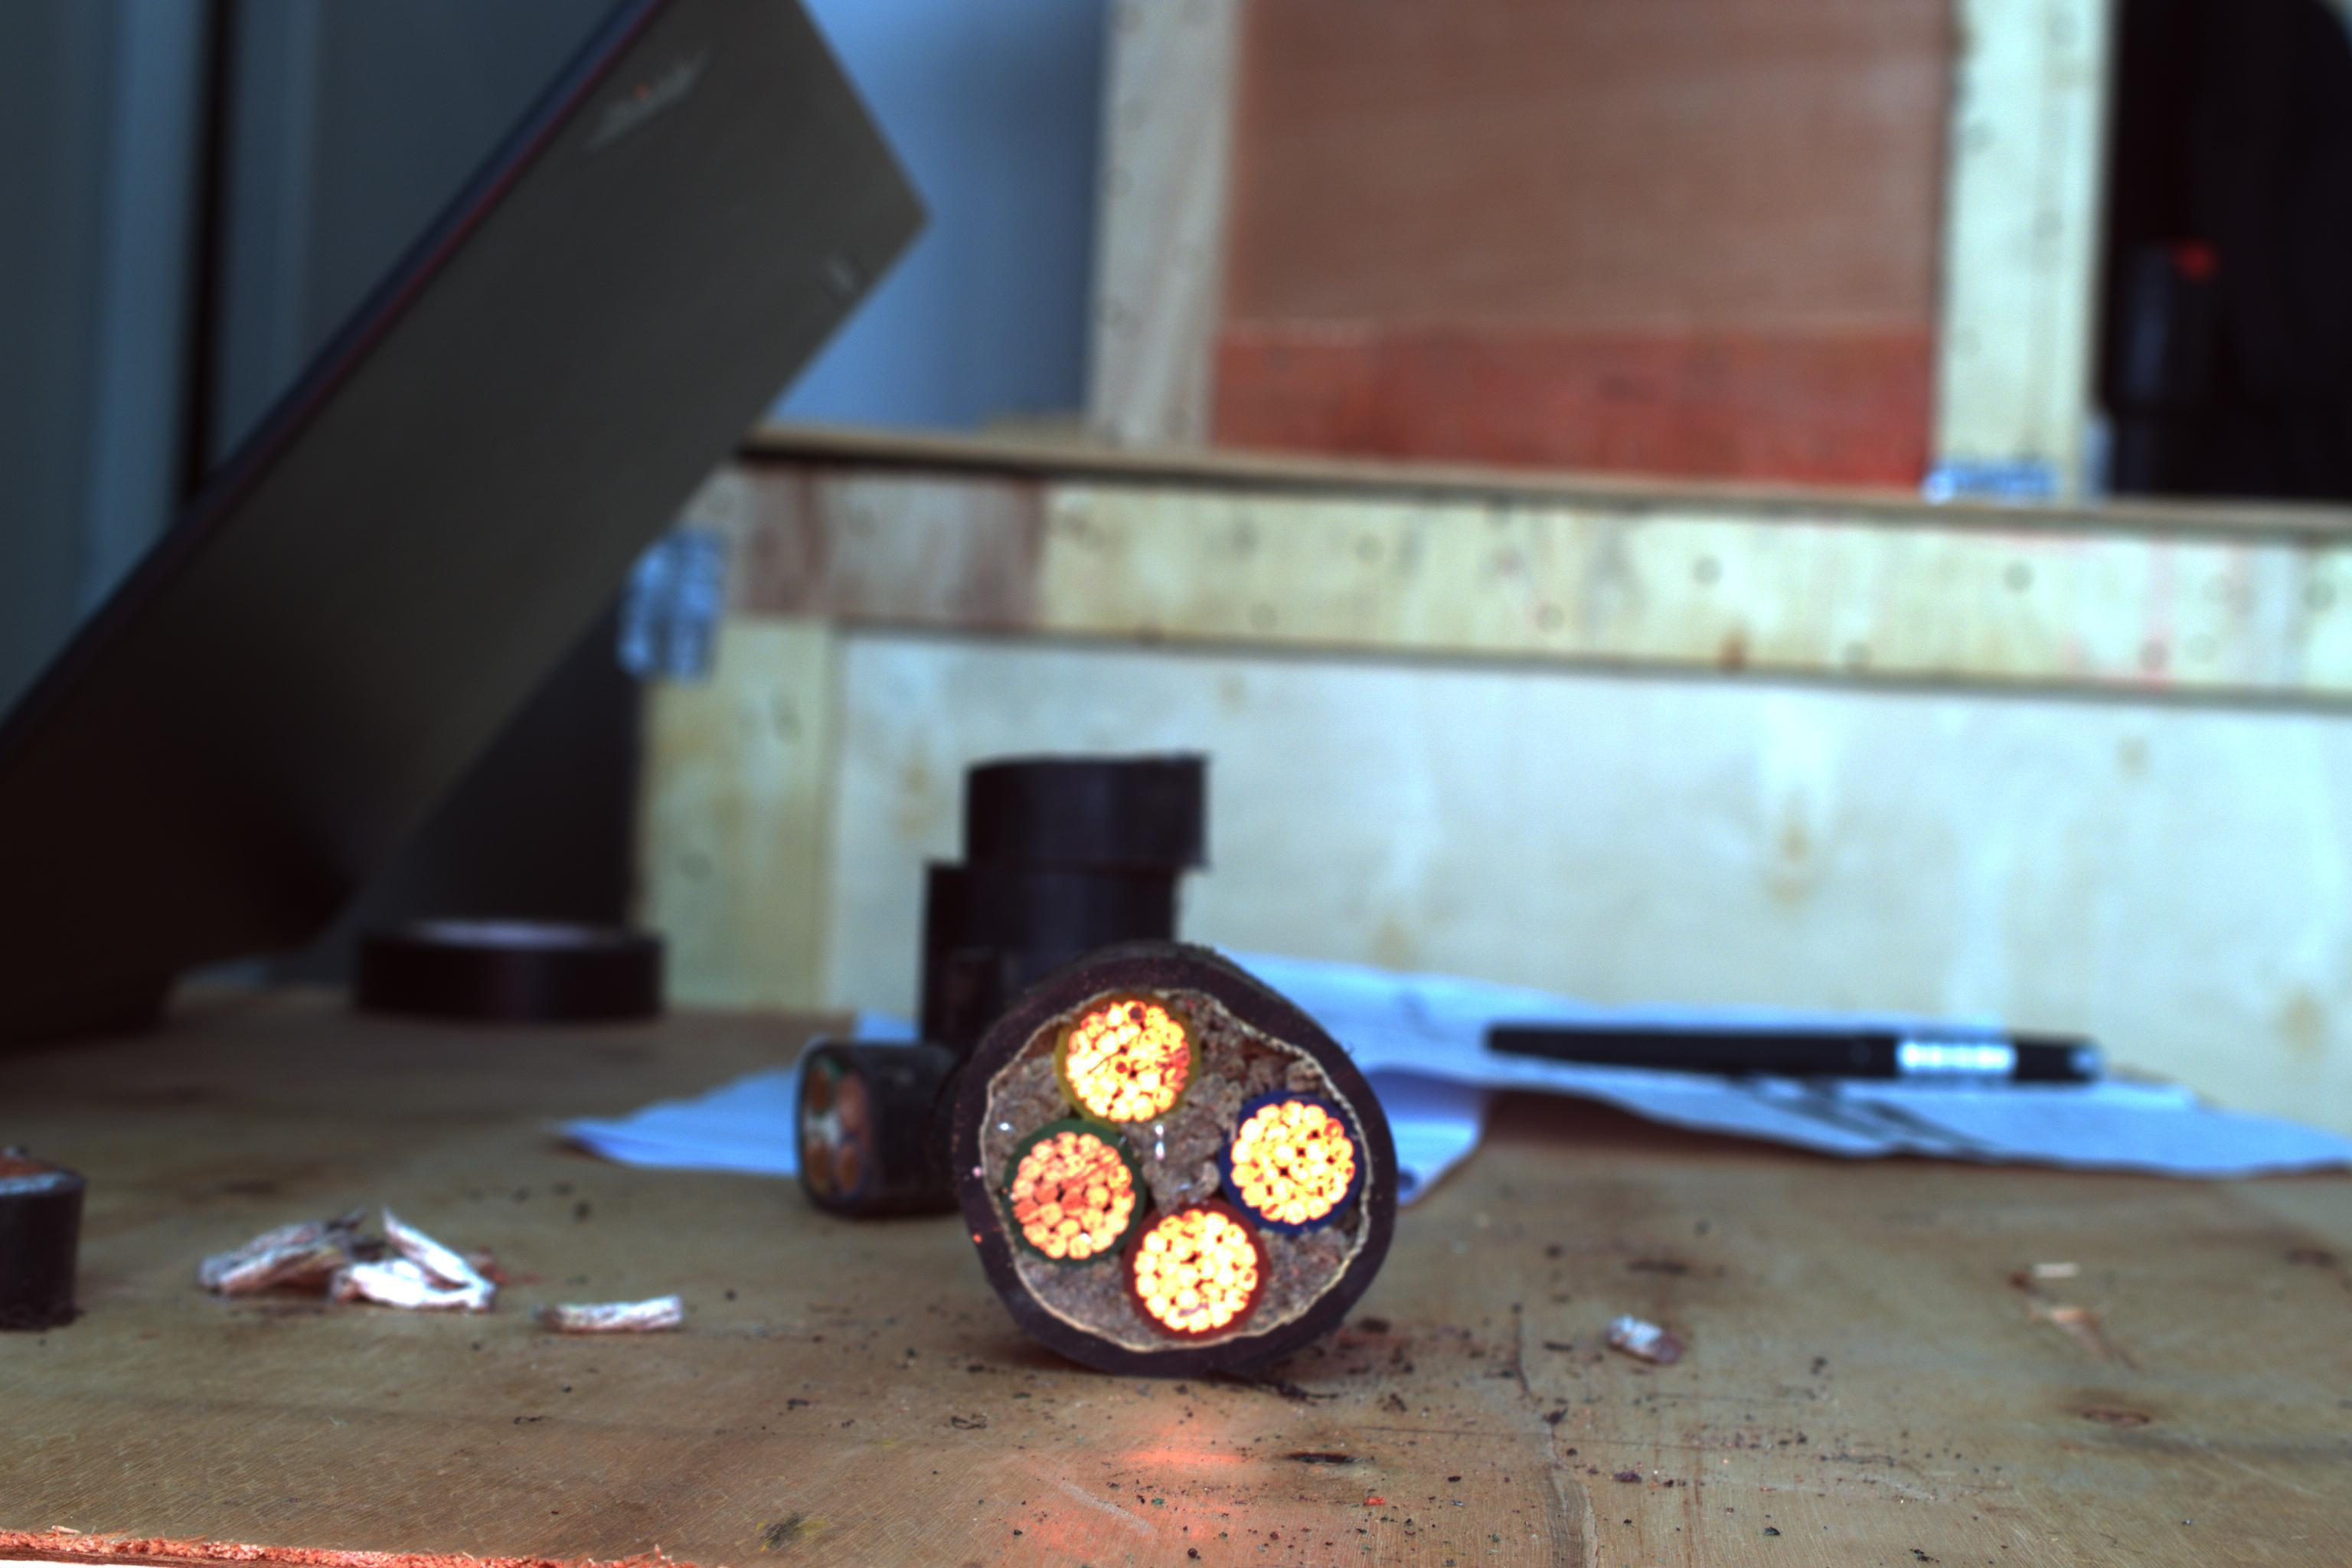YJV_0.6_1kV_4x120: (940, 945, 1398, 1379)
